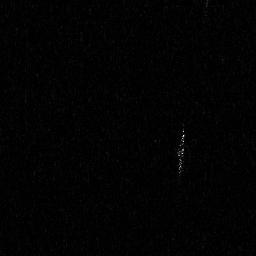ship: (176, 124, 187, 179)
